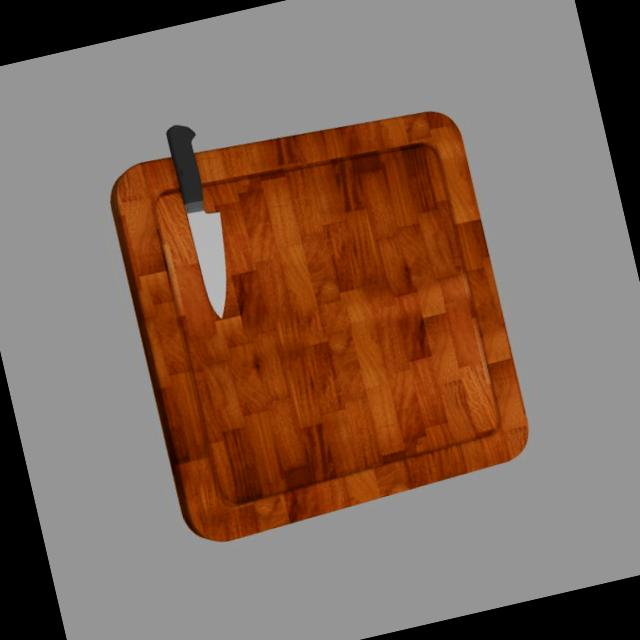knife: (164, 122, 208, 206)
